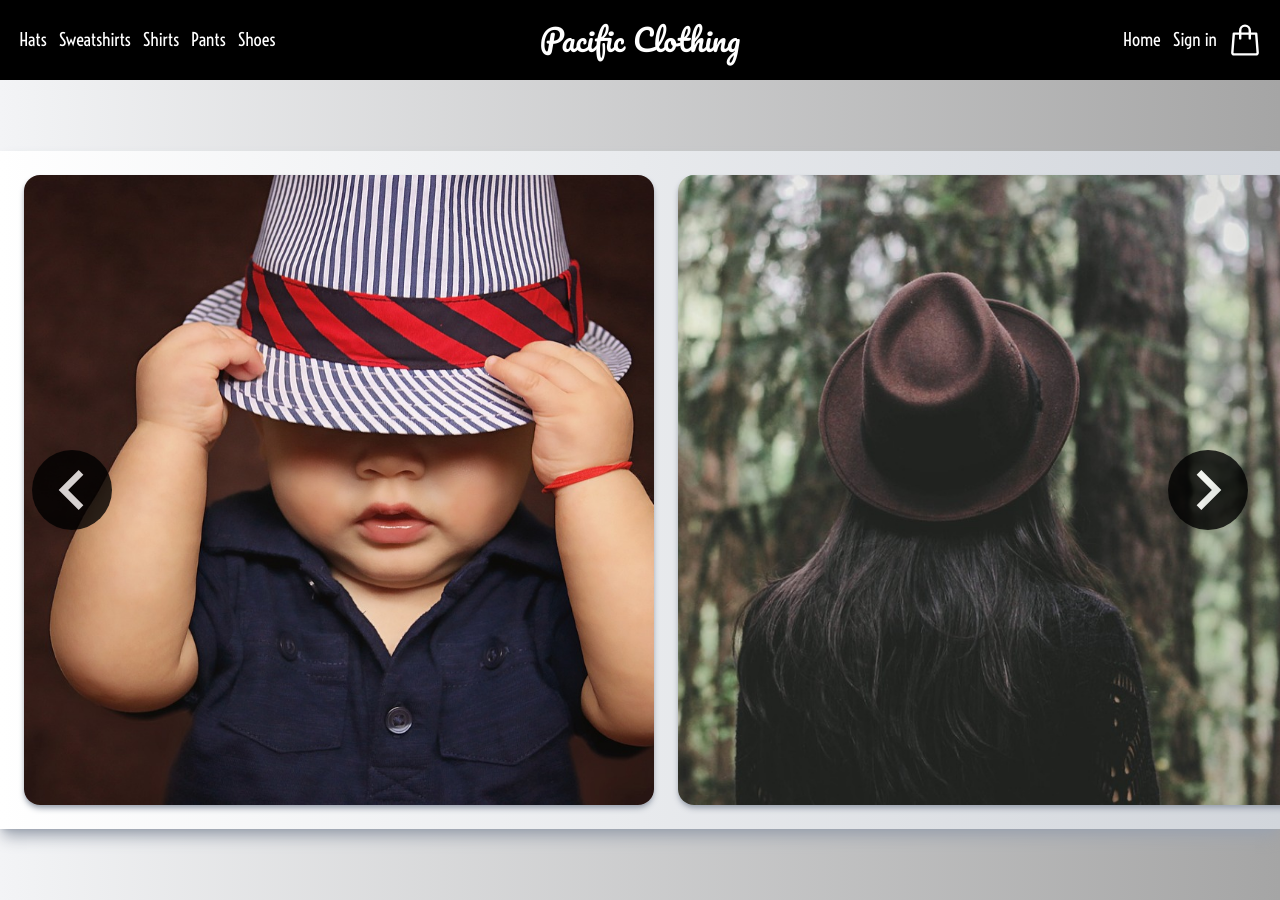
App › should display ProductSection component
Click the button with test id "itemTypeButton1" at (33, 40), box x1=19 y1=26 x2=47 y2=54
(page scrolled)
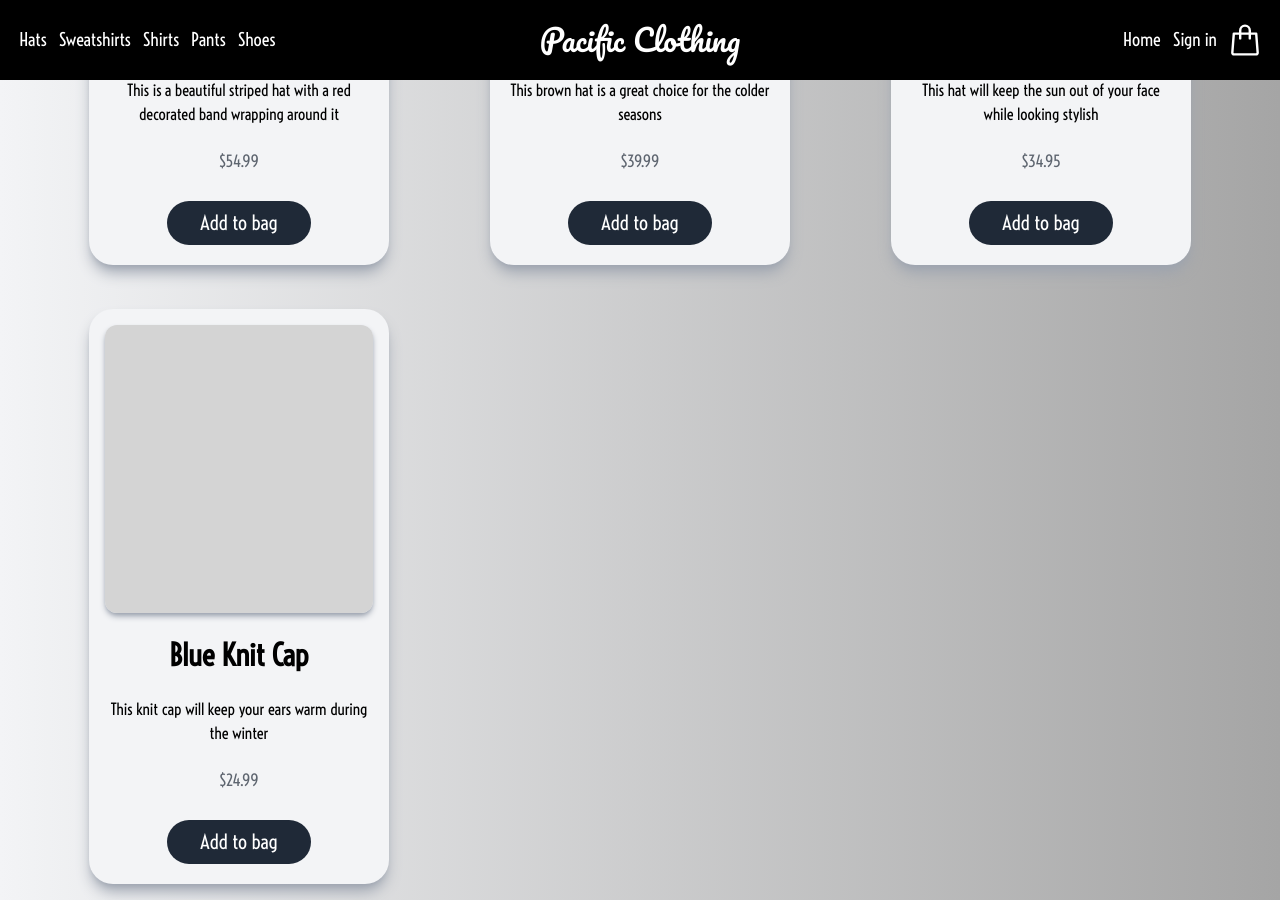
Expected: the button "Add to bag" below "$54.99" is shown, x1=167 y1=201 x2=311 y2=245
Expected: the button "Add to bag" below "$39.99" is shown, x1=568 y1=201 x2=712 y2=245
Expected: the button "Add to bag" below "$34.95" is shown, x1=969 y1=201 x2=1113 y2=245
